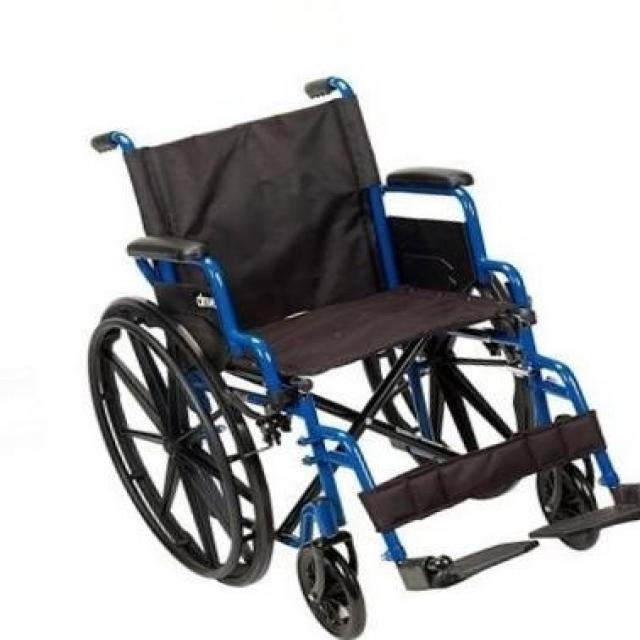wheelchair: (78, 70, 640, 640)
